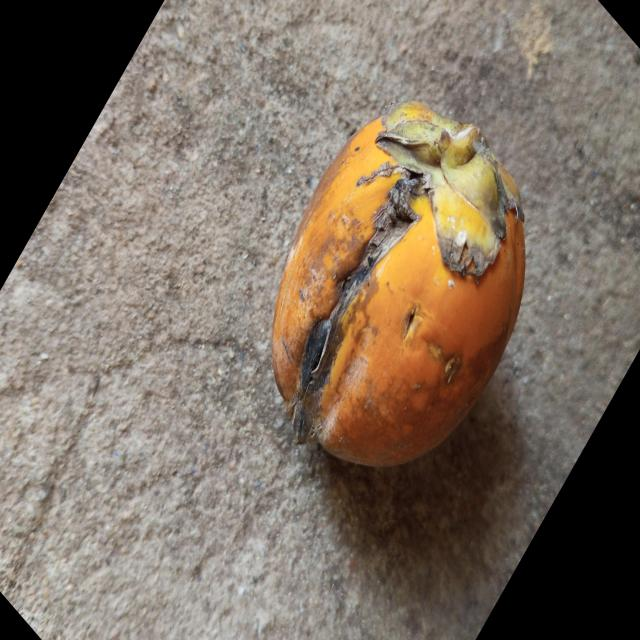damaged: (272, 101, 525, 466)
